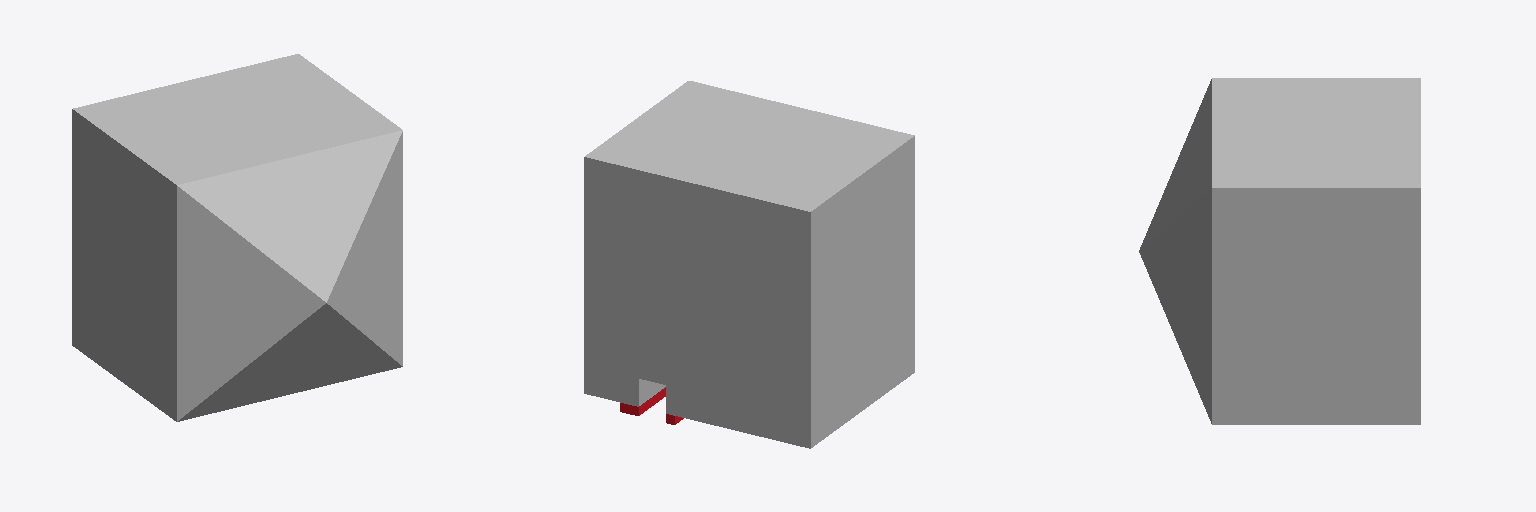
File: home.obj
3 renders of one model, left to right at view 1: azimuth 30°, elevation 25°; view 2: azimuth 150°, elevation 25°; view 3: azimuth 270°, elevation 25°, orthographic.
Visible parts, largest first — view 1: obj_0; view 2: obj_0; view 3: obj_0.
Part boxes in pixels (left/top/right/bottom): obj_0: left=72, top=54, right=402, bottom=421; obj_0: left=584, top=81, right=914, bottom=448; obj_0: left=1139, top=78, right=1420, bottom=424.
Bounding box in the file's own units: 25 × 26 × 27.